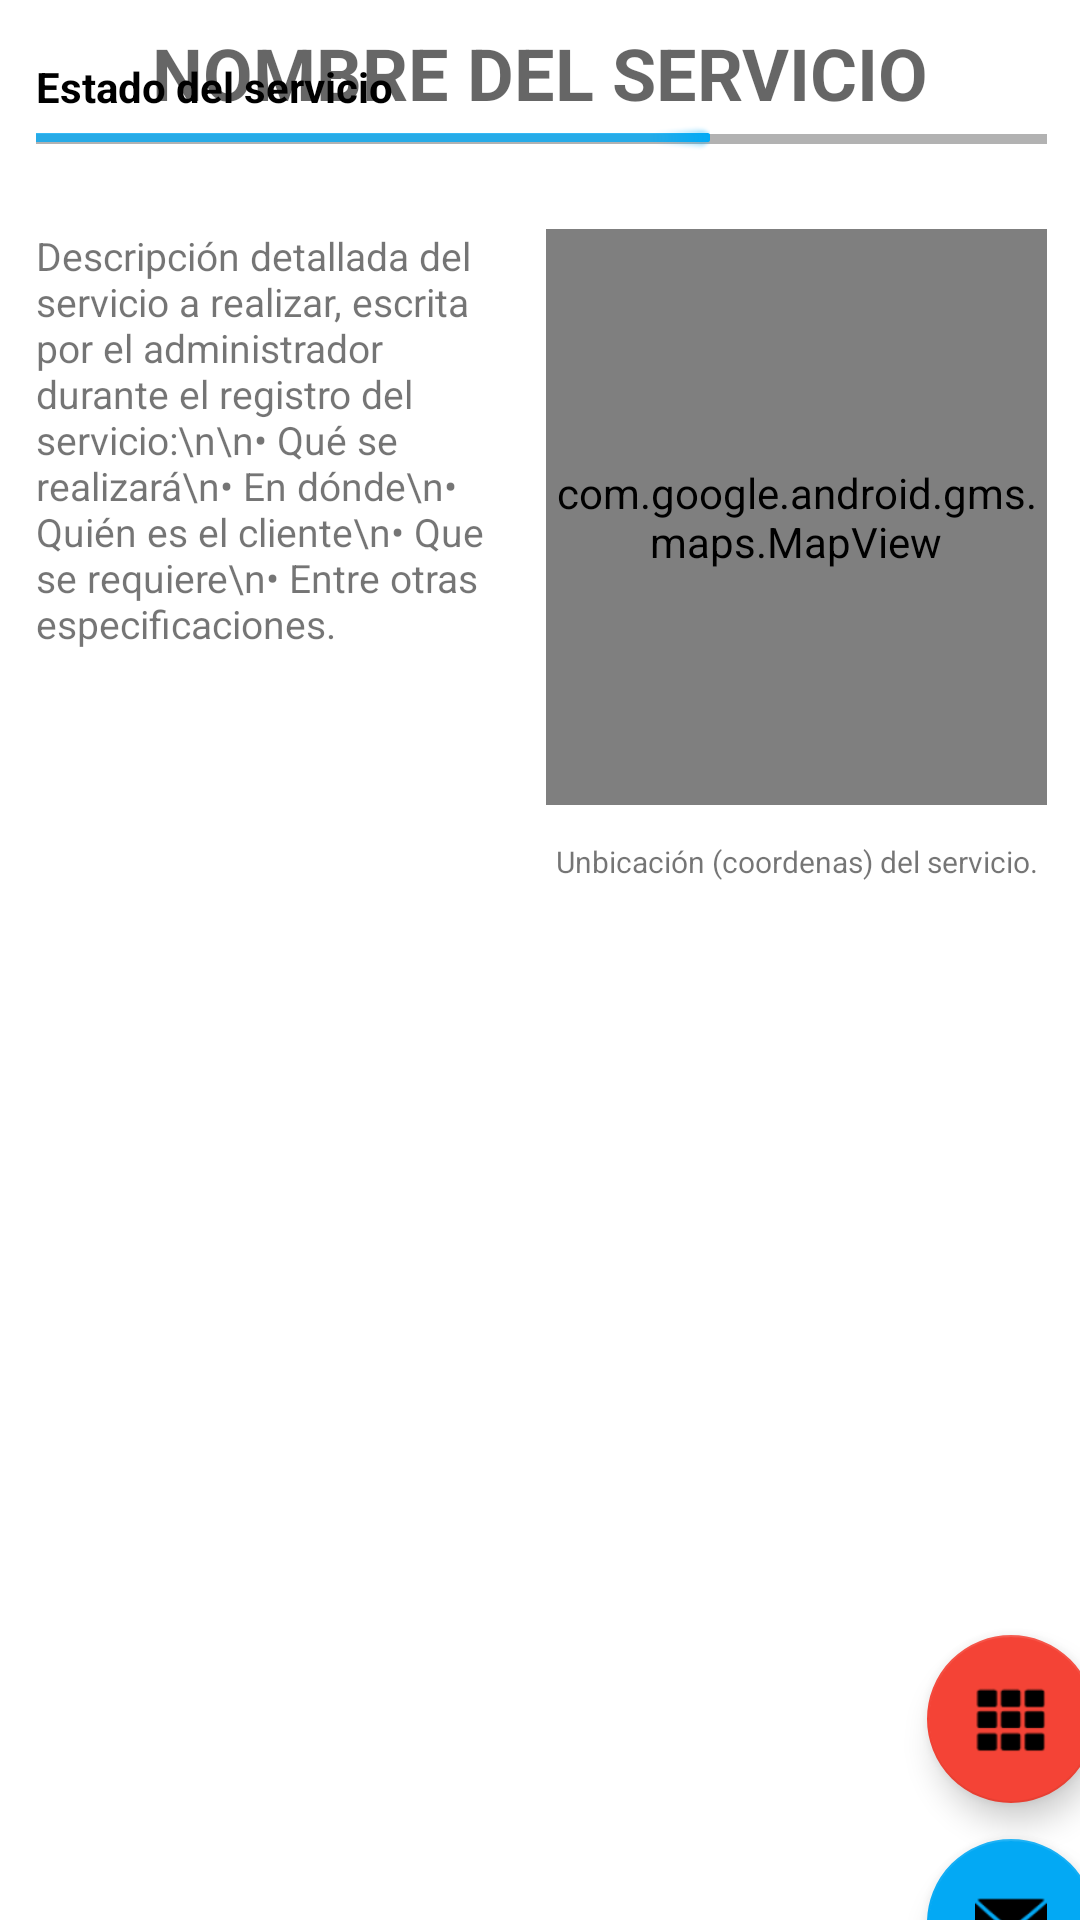

Locate icon controls on the screen. Image size 1080px x 1920px, boxes as (x1, y1, x2, y2).
dialer: (927, 1635, 1080, 1803)
